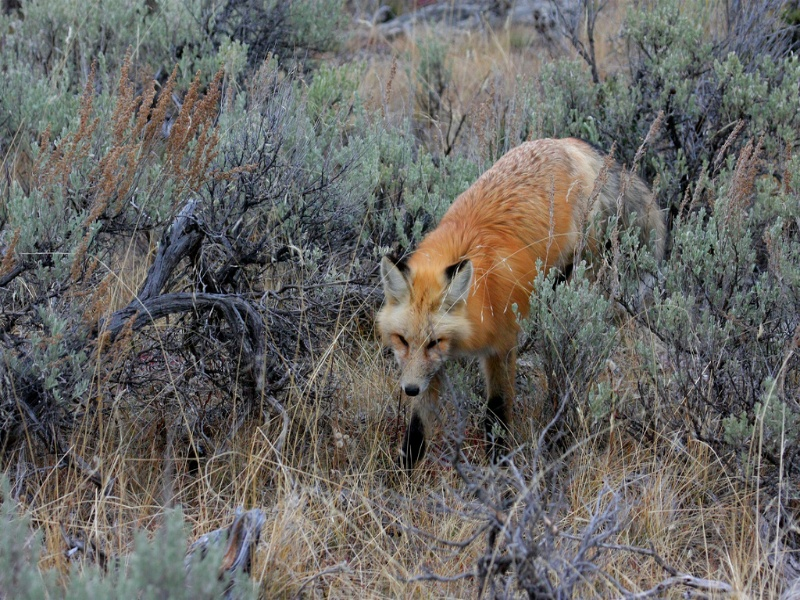fox: (378, 134, 668, 473)
